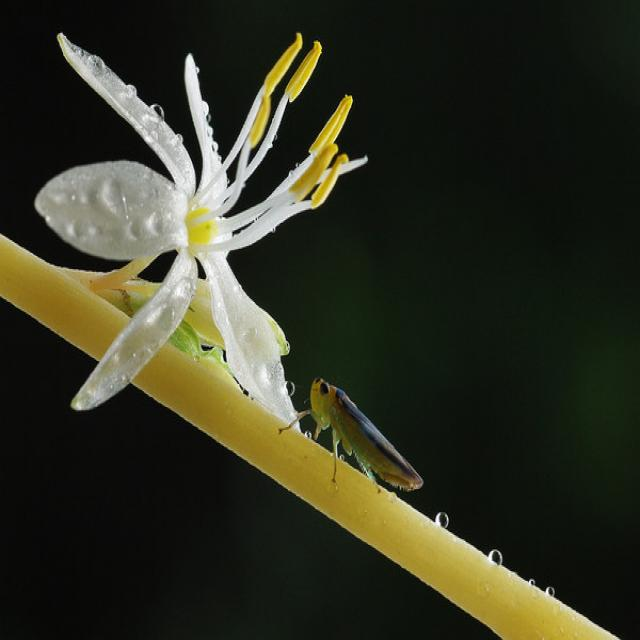Yechan: (301, 372, 428, 502)
